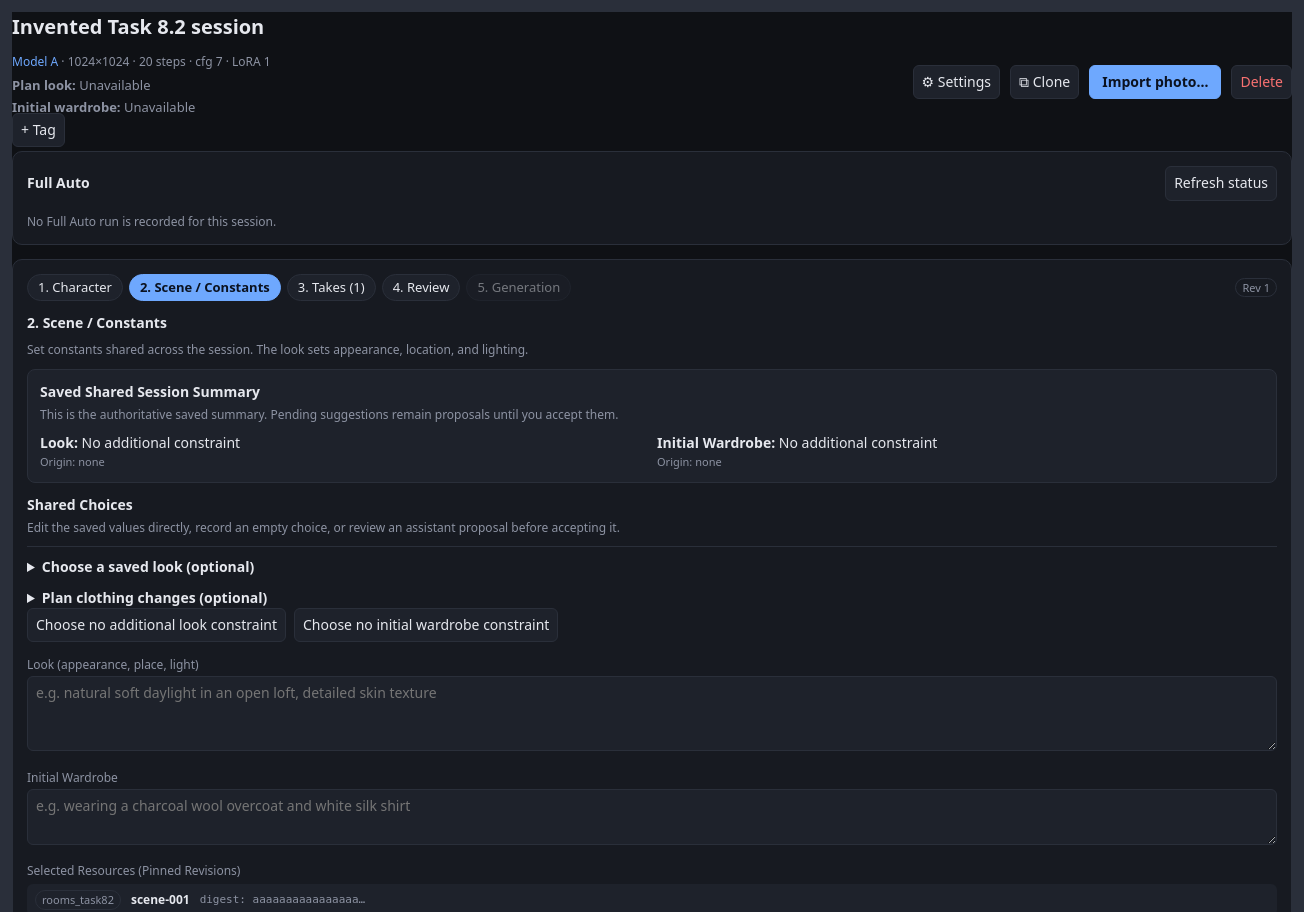
Test case: Task 8.2 independent UI acceptance › records an explicit empty choice through plan CAS without preparing or approving
The width and height of the screenshot is (1304, 912).
Expected: the element named "Saved shared session summary" shows "Origin: none", [27,369,1277,482]
Click the button "Choose no additional look constraint" at (156, 625), box [27,608,286,642]
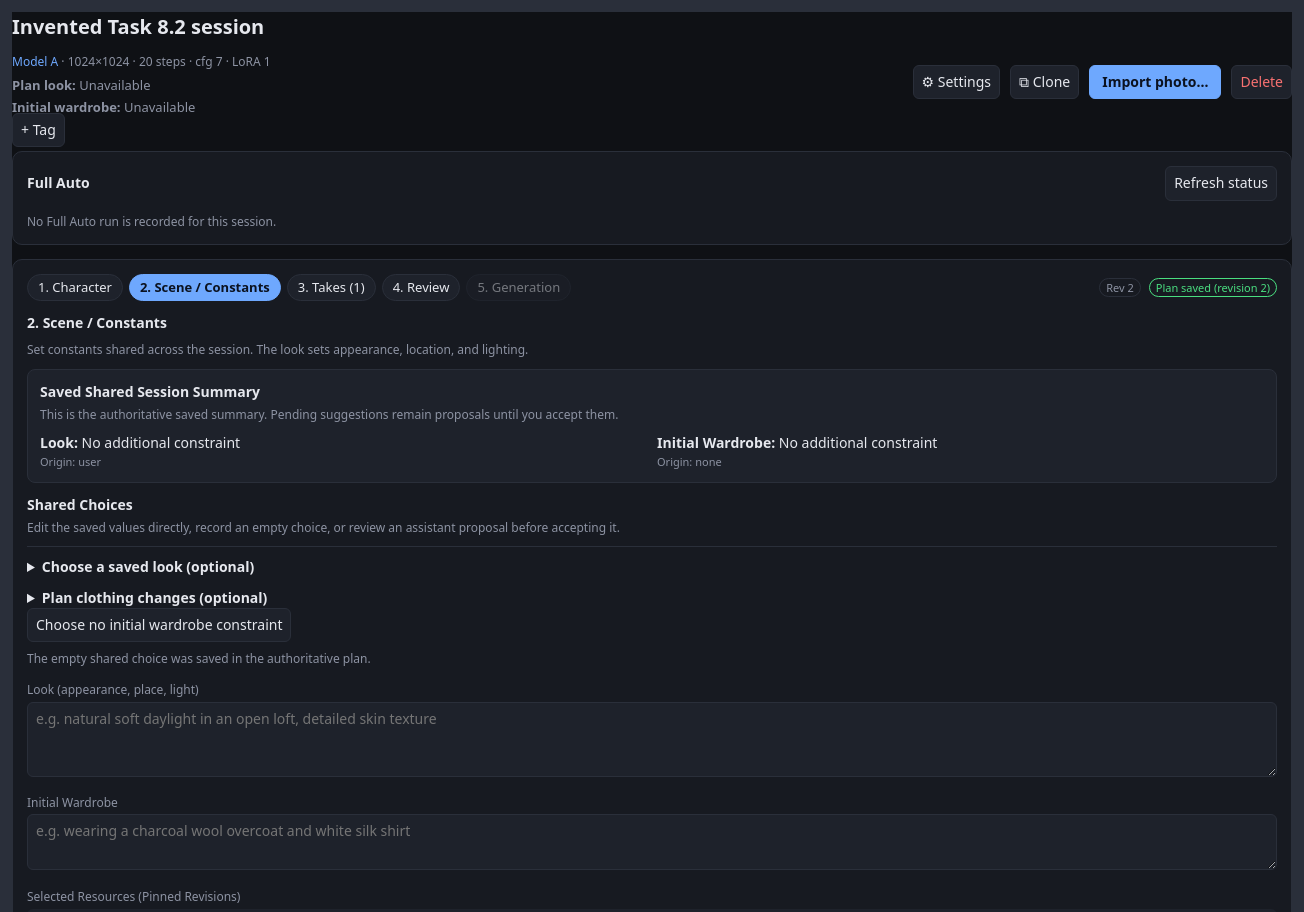
Expected: the element named "Saved shared session summary" shows "No additional constraint", [82,433,240,452]
Expected: the element named "Saved shared session summary" shows "Origin: user", [27,369,1277,482]
